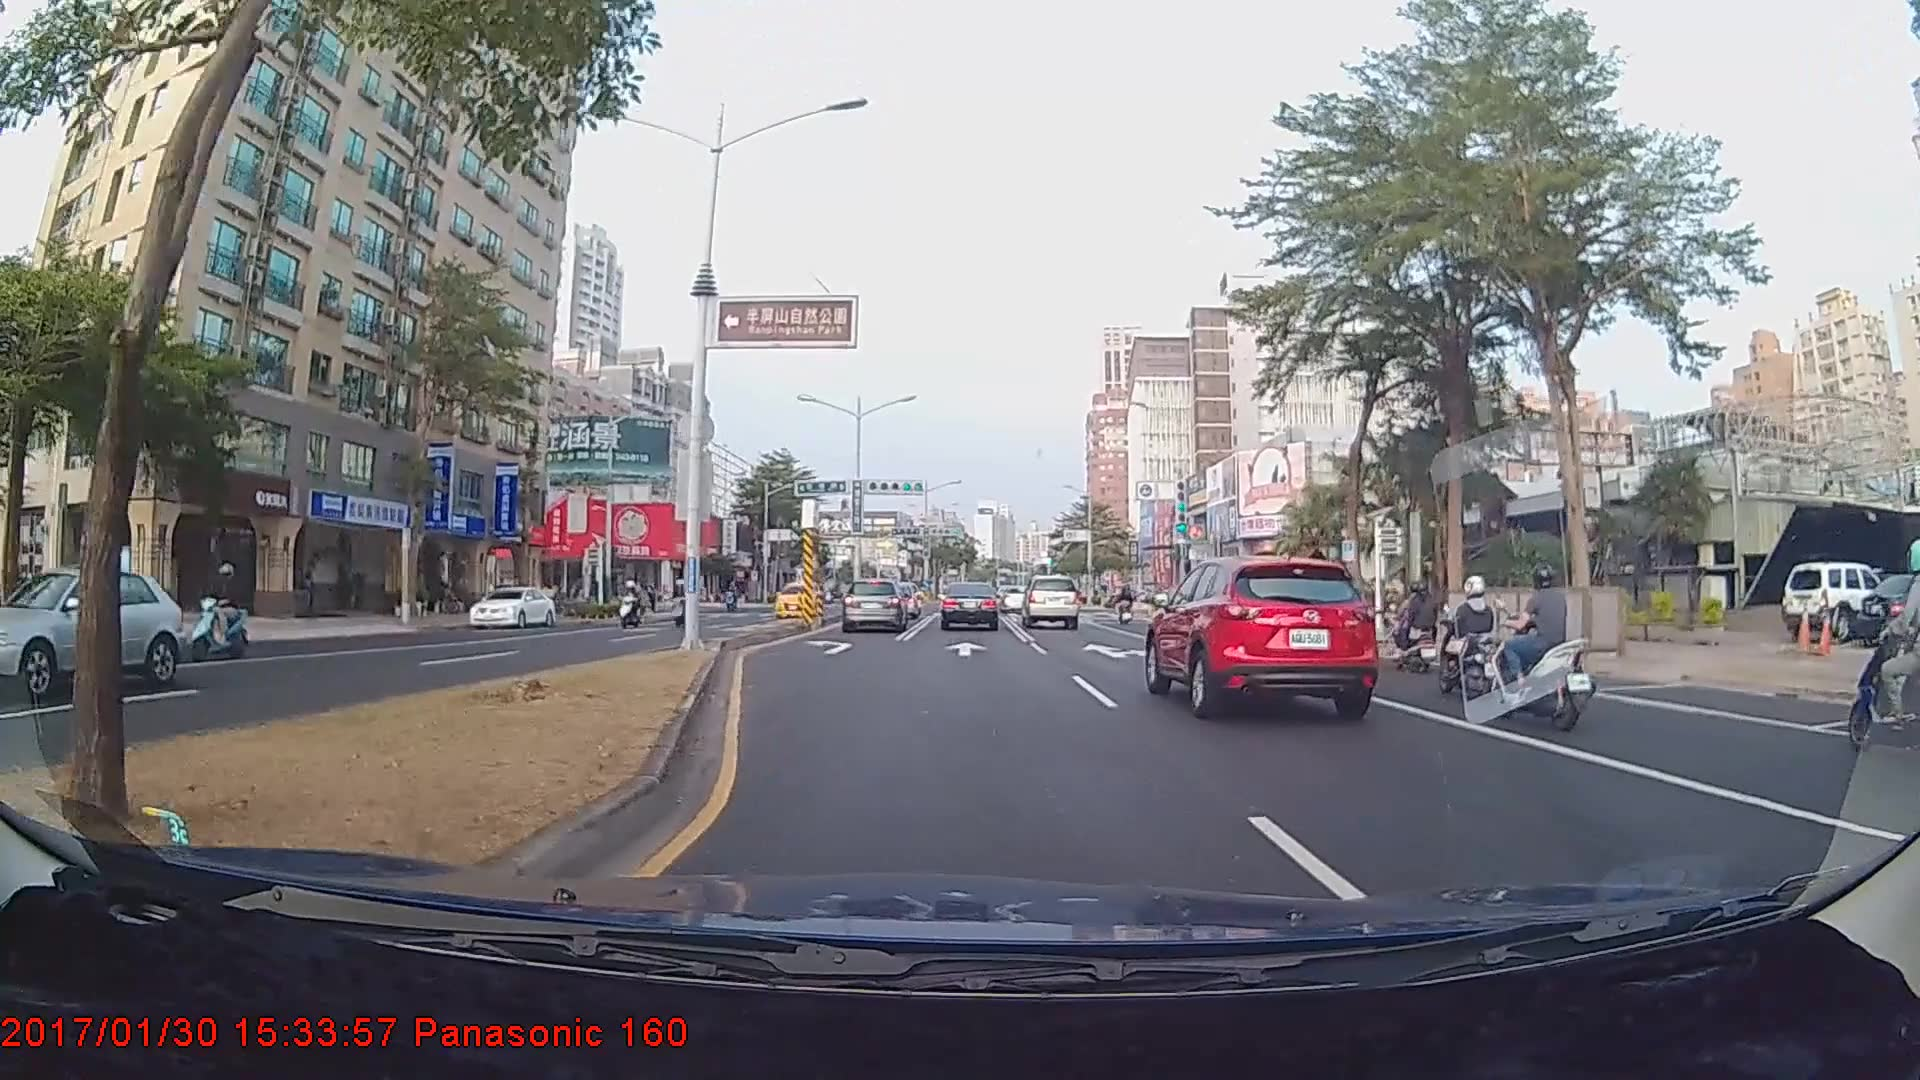rider: (1489, 565, 1602, 733), (1432, 569, 1509, 693), (188, 566, 257, 666), (1385, 575, 1445, 672), (611, 576, 649, 638)
vehicle: (1149, 549, 1379, 718), (0, 568, 181, 695), (1779, 563, 1889, 639), (468, 584, 555, 631), (840, 579, 909, 633), (1021, 572, 1080, 630), (940, 580, 1000, 632), (774, 581, 825, 617)
